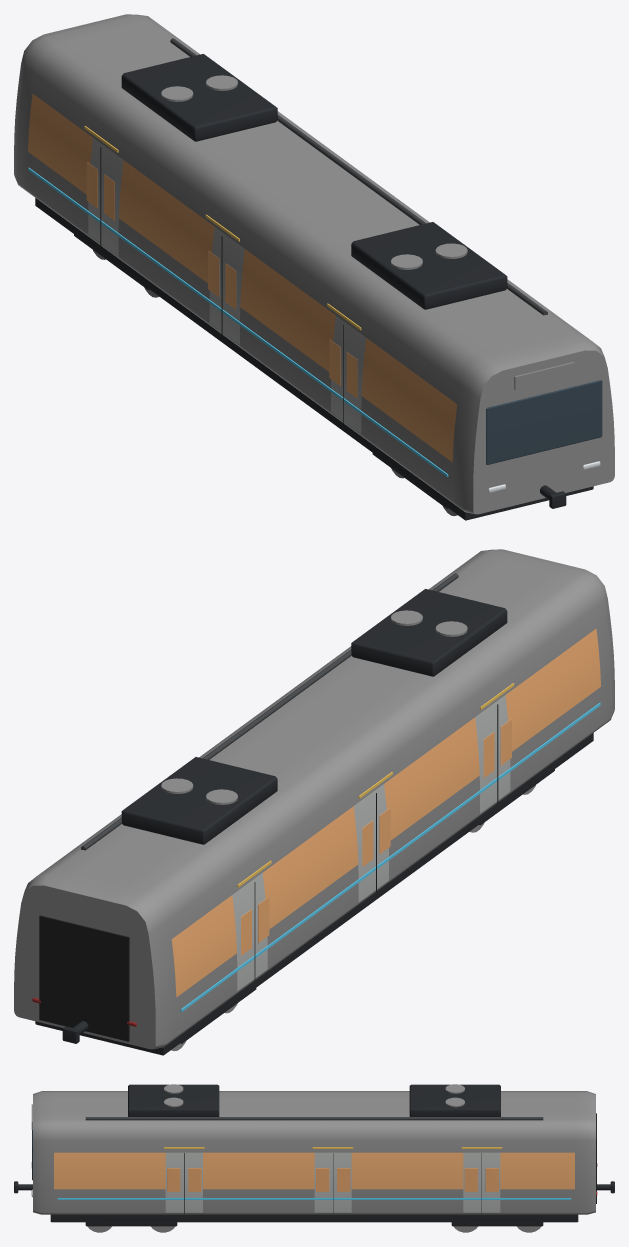
The model's file is TrainCar_Metro_Lit.fbx.
3 renders of one model, top to bottom at view 1: azimuth 30°, elevation 25°; view 2: azimuth 150°, elevation 25°; view 3: azimuth 270°, elevation 25°, orthographic. The views are drawn at different scales.
Visible parts, largest first — view 1: TrainCar_Metro_Lit_LOD0; view 2: TrainCar_Metro_Lit_LOD0; view 3: TrainCar_Metro_Lit_LOD0.
Boxes of the visible parts, box(x1,y1,x2,y2) form: TrainCar_Metro_Lit_LOD0: box(14, 14, 614, 520); TrainCar_Metro_Lit_LOD0: box(14, 549, 614, 1055); TrainCar_Metro_Lit_LOD0: box(14, 1084, 614, 1232).
Size of what is drawn, in the model's own units: 3.11 by 3.93 by 17.08.
